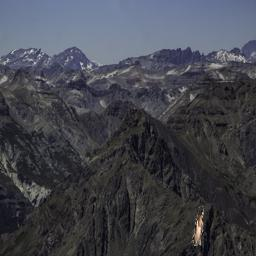Swallow: (192, 206, 204, 246)
